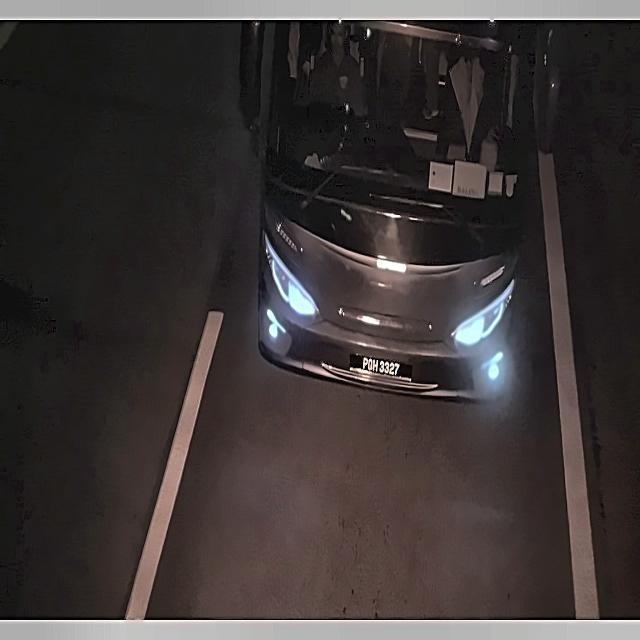car: (346, 346, 416, 388)
